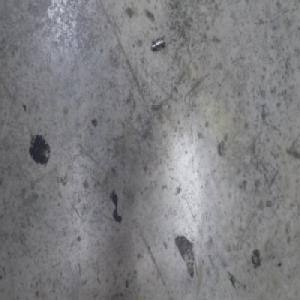Bolt: (150, 33, 165, 52)
